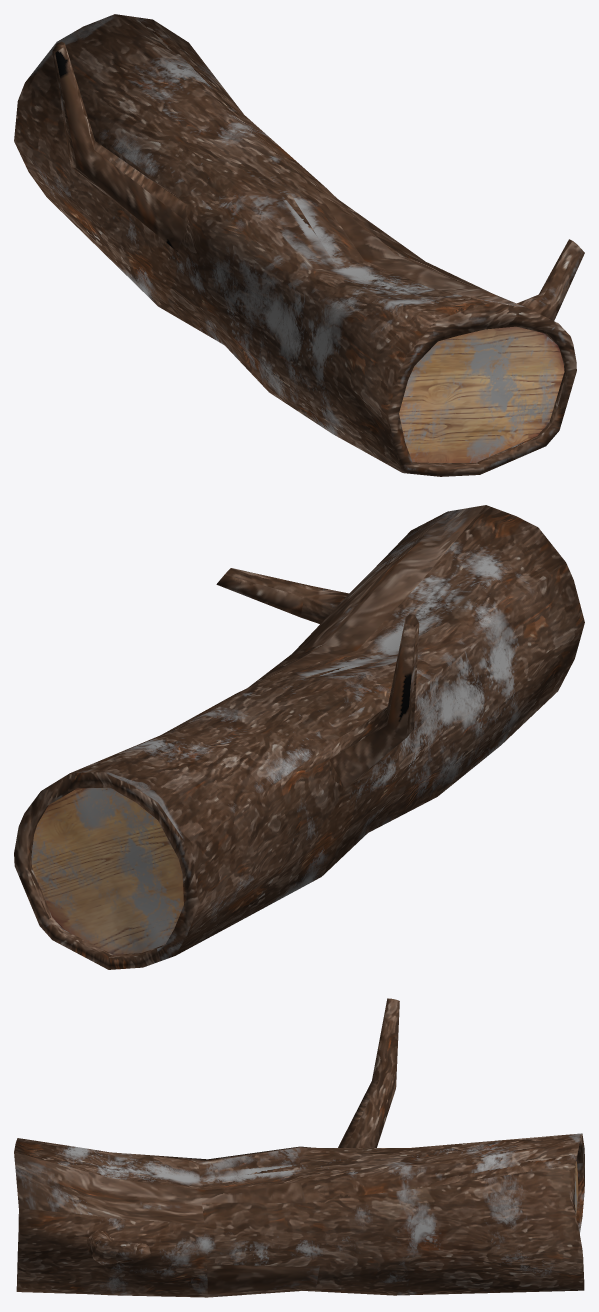
The model's file is tronco.fbx.
3 views of the same model, one above another, from view 1: azimuth 30°, elevation 25°; view 2: azimuth 150°, elevation 25°; view 3: azimuth 270°, elevation 25° (orthographic). The views are drawn at different scales.
Visible parts, largest first — view 1: Cylinder; view 2: Cylinder; view 3: Cylinder.
Boxes of the visible parts, x1,y1,x2,y2 form: Cylinder: (14, 14, 584, 476); Cylinder: (14, 505, 584, 969); Cylinder: (14, 998, 584, 1297).
Size of the model in its own units: 238 by 195 by 433.
Materials: 1 (1 with a texture image).
